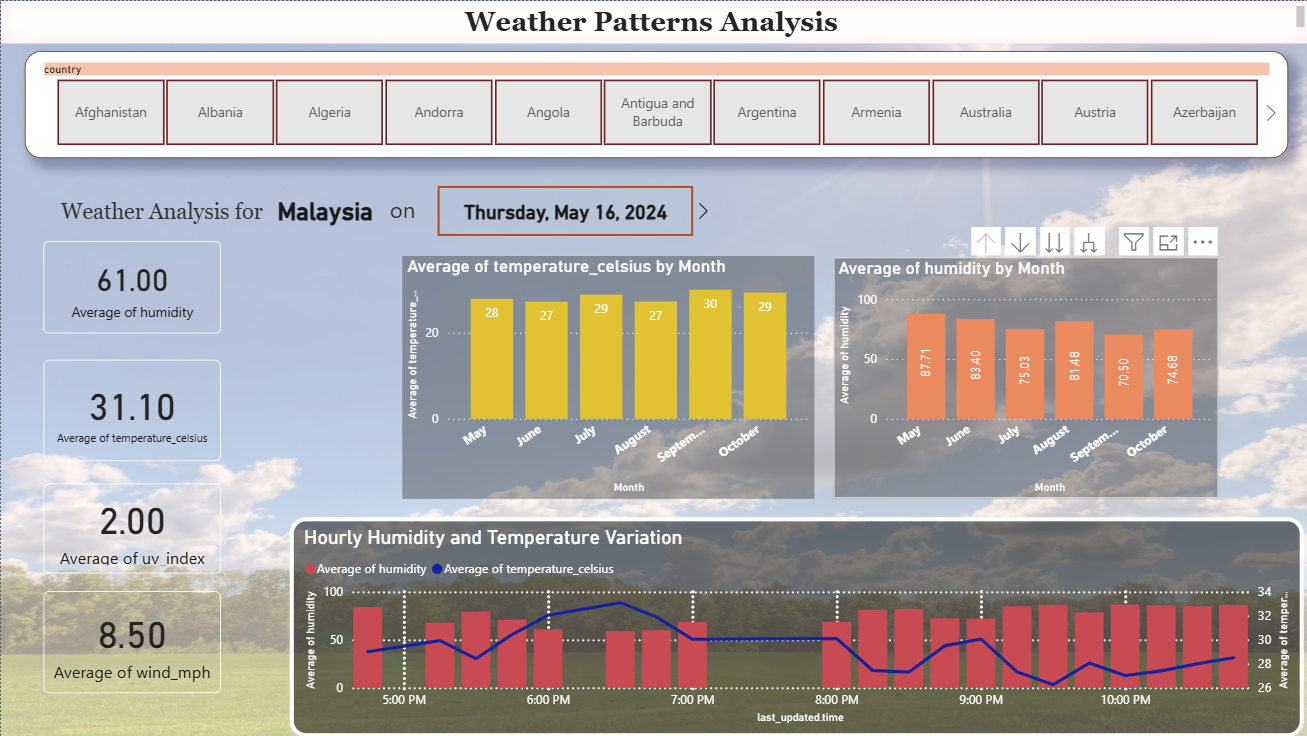

Layout of this report page (visuals, bound fields, positions):
{"tool":"powerbi","page":{"name":"Overview: Weather Patterns Analysis","canvas":[1280,720],"ordinal":0},"visuals":[{"type":"textbox","box":[0,0,1280.3,41.6],"z":0},{"type":"slicer","fields":{"Values":["air_quality_data_analysis.country"]},"box":[23.2,48.9,1236.3,105.2],"z":1000},{"type":"card","fields":{"Values":["Min(air_quality_data_analysis.country)"]},"box":[242.1,174.9,150.4,59.9],"z":2000},{"type":"advancedSlicerVisual","fields":{"Values":["weather_data_analysis.last_updated.date"]},"box":[402.3,176.1,300.8,59.9],"z":3000},{"type":"card","fields":{"Values":["Avg(weather_data_analysis.humidity)"]},"box":[41.6,234.8,173.6,90.5],"z":4000},{"type":"card","fields":{"Values":["Avg(weather_data_analysis.temperature_celsius)"]},"box":[41.6,351,173.6,99],"z":5000},{"type":"card","fields":{"Values":["Avg(weather_data_analysis.uv_index)"]},"box":[41.6,472,173.6,88],"z":6000},{"type":"clusteredColumnChart","fields":{"Y":["Avg(weather_data_analysis.temperature_celsius)"],"Category":["weather_data_analysis.last_updated.date.Variation.Date Hierarchy.Month","weather_data_analysis.last_updated.date.Variation.Date Hierarchy.Day"]},"box":[392.5,249.5,403.5,237.2],"z":7000},{"type":"clusteredColumnChart","fields":{"Y":["Avg(weather_data_analysis.humidity)"],"Category":["weather_data_analysis.last_updated.date.Variation.Date Hierarchy.Month","weather_data_analysis.last_updated.date.Variation.Date Hierarchy.Day"]},"box":[814.4,250.7,376.6,236],"z":8000},{"type":"card","fields":{"Values":["Avg(weather_data_analysis.wind_mph)"]},"box":[41.6,577.2,173.6,100.3],"z":9000},{"type":"lineStackedColumnComboChart","title":"Hourly Humidity and Temperature Variation","fields":{"Y2":["Avg(weather_data_analysis.temperature_celsius)"],"Y":["Avg(weather_data_analysis.humidity)"],"Category":["weather_data_analysis.last_updated.time"]},"box":[282.5,505,991.7,215.2],"z":10000},{"type":"textbox","box":[53.8,189.5,228.7,40.4],"z":11000},{"type":"textbox","box":[375.4,184.6,47.7,40.4],"z":12000}]}

Visuals, with their boxes in screenshot pixels (x1, y1, x2, y2), scaled from the page's 1280x720 canvas onto the 1307x736 screenshot:
textbox: (0,0,1306,43)
slicer - air_quality_data_analysis.country: (24,50,1286,158)
card - Min(air_quality_data_analysis.country): (247,179,401,240)
advancedSlicerVisual - weather_data_analysis.last_updated.date: (411,180,718,241)
card - Avg(weather_data_analysis.humidity): (42,240,220,333)
card - Avg(weather_data_analysis.temperature_celsius): (42,359,220,460)
card - Avg(weather_data_analysis.uv_index): (42,482,220,572)
clusteredColumnChart - Avg(weather_data_analysis.temperature_celsius) x weather_data_analysis.last_updated.date.Variation.Date Hierarchy.Month: (401,255,813,498)
clusteredColumnChart - Avg(weather_data_analysis.humidity) x weather_data_analysis.last_updated.date.Variation.Date Hierarchy.Month: (832,256,1216,498)
card - Avg(weather_data_analysis.wind_mph): (42,590,220,693)
"Hourly Humidity and Temperature Variation" lineStackedColumnComboChart: (288,516,1301,735)
textbox: (55,194,288,235)
textbox: (383,189,432,230)
